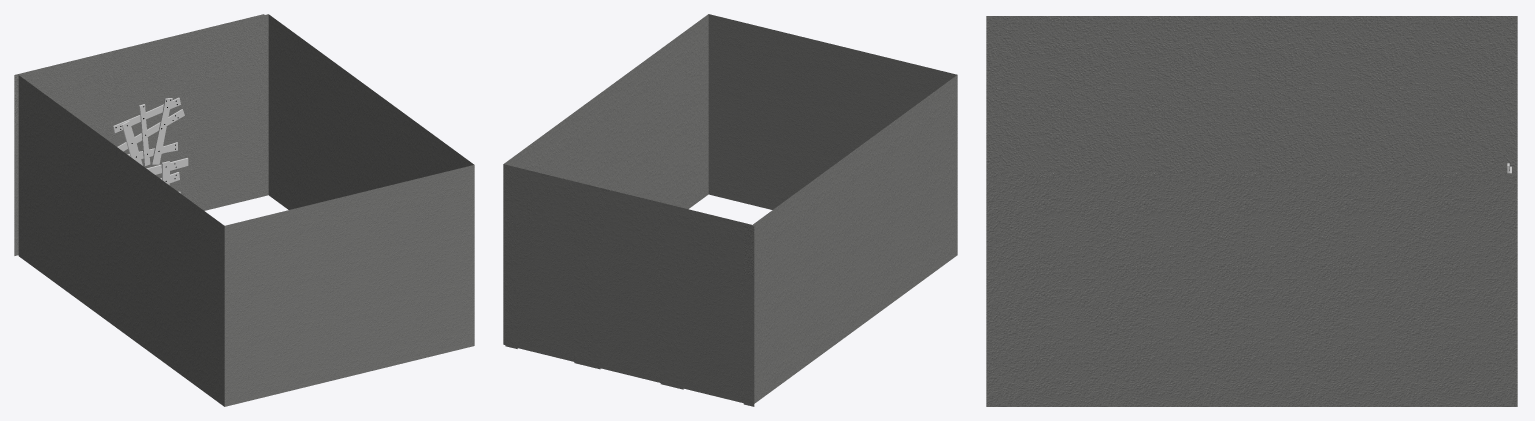
Rendered from barricade.fbx.
The picture shows the model from 3 angles, left to right: view 1: azimuth 30°, elevation 25°; view 2: azimuth 150°, elevation 25°; view 3: azimuth 270°, elevation 25°; orthographic projection. The views are drawn at different scales.
Visible parts, largest first — view 1: walls, wall, wall_door, Wooden Barricade; view 2: walls, wall, wall_door; view 3: walls.
Boxes of the visible parts, x1,y1,x2,y2 form: walls: (18, 14, 474, 406); wall: (19, 14, 268, 210); wall_door: (14, 14, 268, 255); Wooden Barricade: (113, 97, 188, 193); walls: (504, 14, 957, 403); wall: (503, 164, 752, 402); wall_door: (503, 165, 754, 406); walls: (986, 16, 1517, 406).
Bounding box in the file's own units: 1948 × 1354 × 2762.
